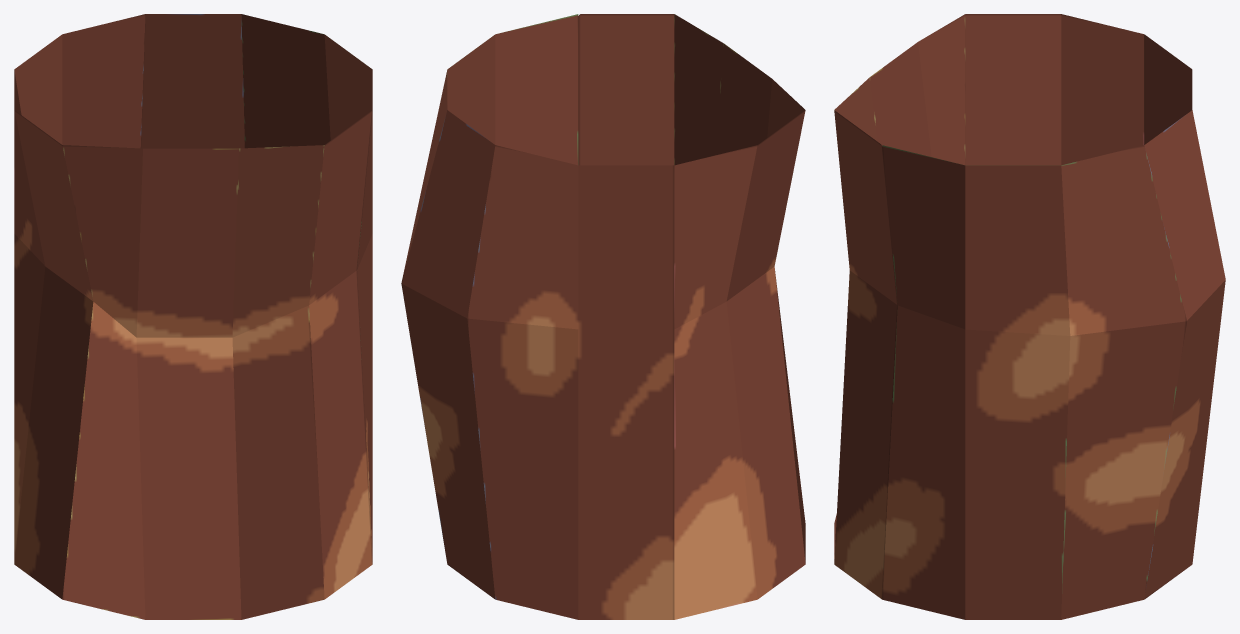
Rendered from Barrel.fbx.
3 renders of one model, left to right at view 1: azimuth 30°, elevation 25°; view 2: azimuth 150°, elevation 25°; view 3: azimuth 270°, elevation 25°, orthographic.
Parts seen in each view (by area): view 1: cylinder; view 2: cylinder; view 3: cylinder.
Part boxes in pixels (left/top/right/bottom): cylinder: left=14, top=14, right=372, bottom=619; cylinder: left=401, top=14, right=805, bottom=619; cylinder: left=834, top=14, right=1225, bottom=619.
Size of the model in its own units: 130 by 175 by 137.
Materials: 1 (1 with a texture image).
